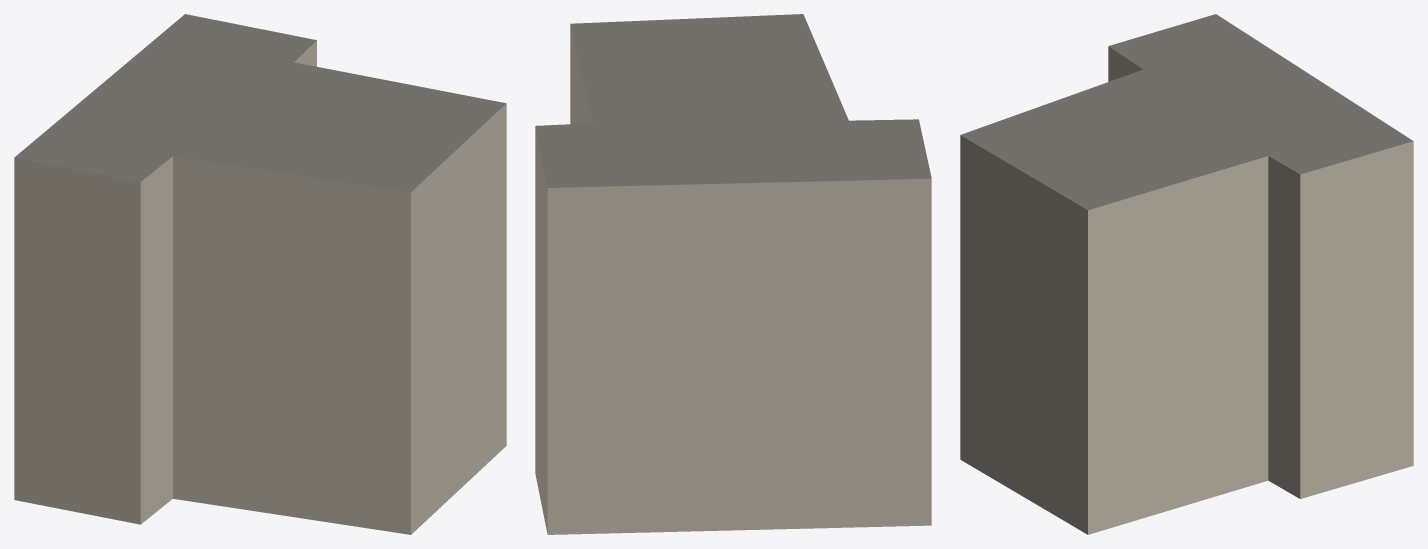
3 renders of one model, left to right at view 1: azimuth 30°, elevation 25°; view 2: azimuth 150°, elevation 25°; view 3: azimuth 270°, elevation 25°, orthographic. The views are drawn at different scales.
Parts seen in each view (by area): view 1: HP-w505650489; view 2: HP-w505650489; view 3: HP-w505650489.
Part boxes in pixels (bbox=[...]): HP-w505650489: bbox=[14, 14, 506, 534]; HP-w505650489: bbox=[535, 14, 931, 534]; HP-w505650489: bbox=[960, 14, 1413, 534].
Size of the model in its own units: 23.34 by 18 by 22.78.
